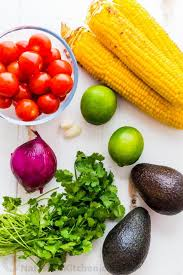aguacate: (92, 205, 159, 275), (127, 159, 183, 218)
